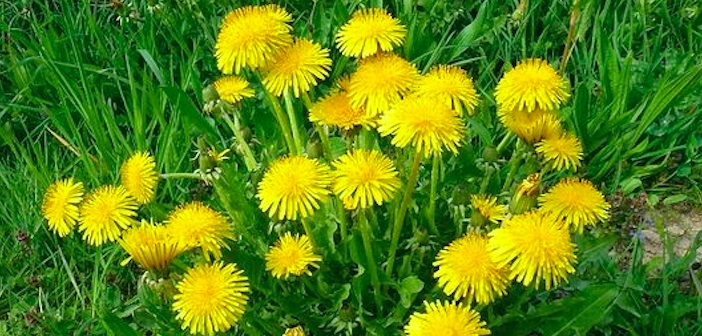begonvil: (491, 205, 581, 291), (162, 257, 259, 336), (251, 149, 338, 226), (206, 2, 295, 77), (531, 166, 621, 236), (333, 142, 405, 226), (433, 235, 514, 308), (382, 100, 462, 162), (413, 55, 490, 118), (259, 227, 329, 296), (488, 57, 570, 114), (269, 39, 338, 104), (343, 50, 418, 109), (331, 3, 401, 62), (76, 173, 133, 245), (395, 295, 495, 336), (168, 202, 235, 263), (303, 87, 377, 139), (113, 145, 168, 208), (525, 122, 590, 175), (35, 175, 87, 237), (508, 103, 565, 154)
